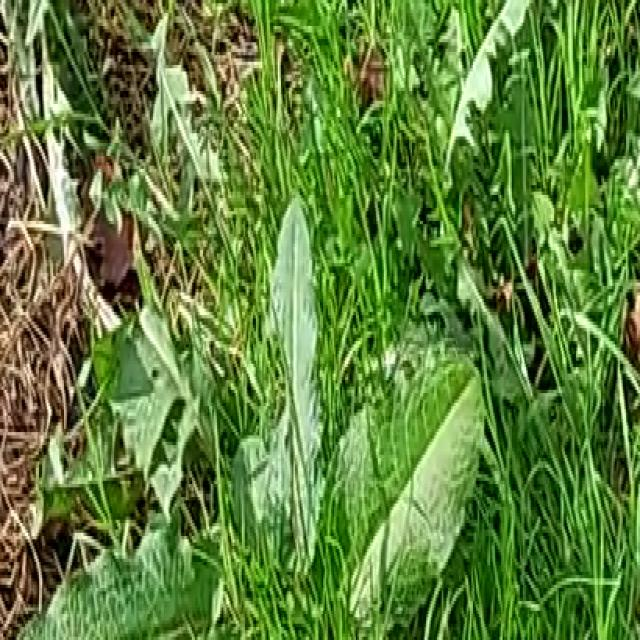organic waste: (28, 188, 484, 640)
